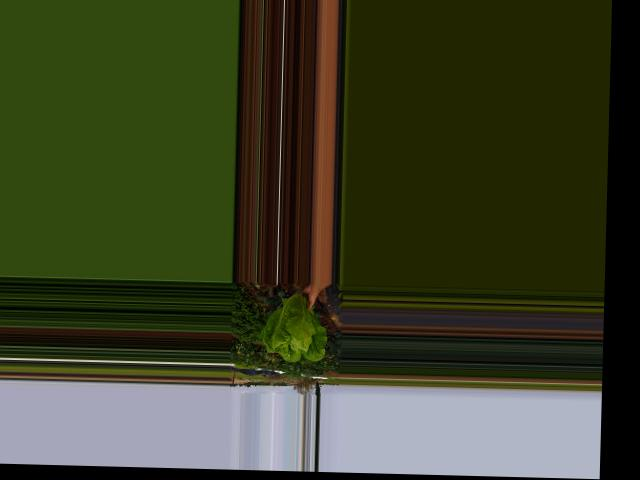lettuce: (258, 287, 331, 363)
